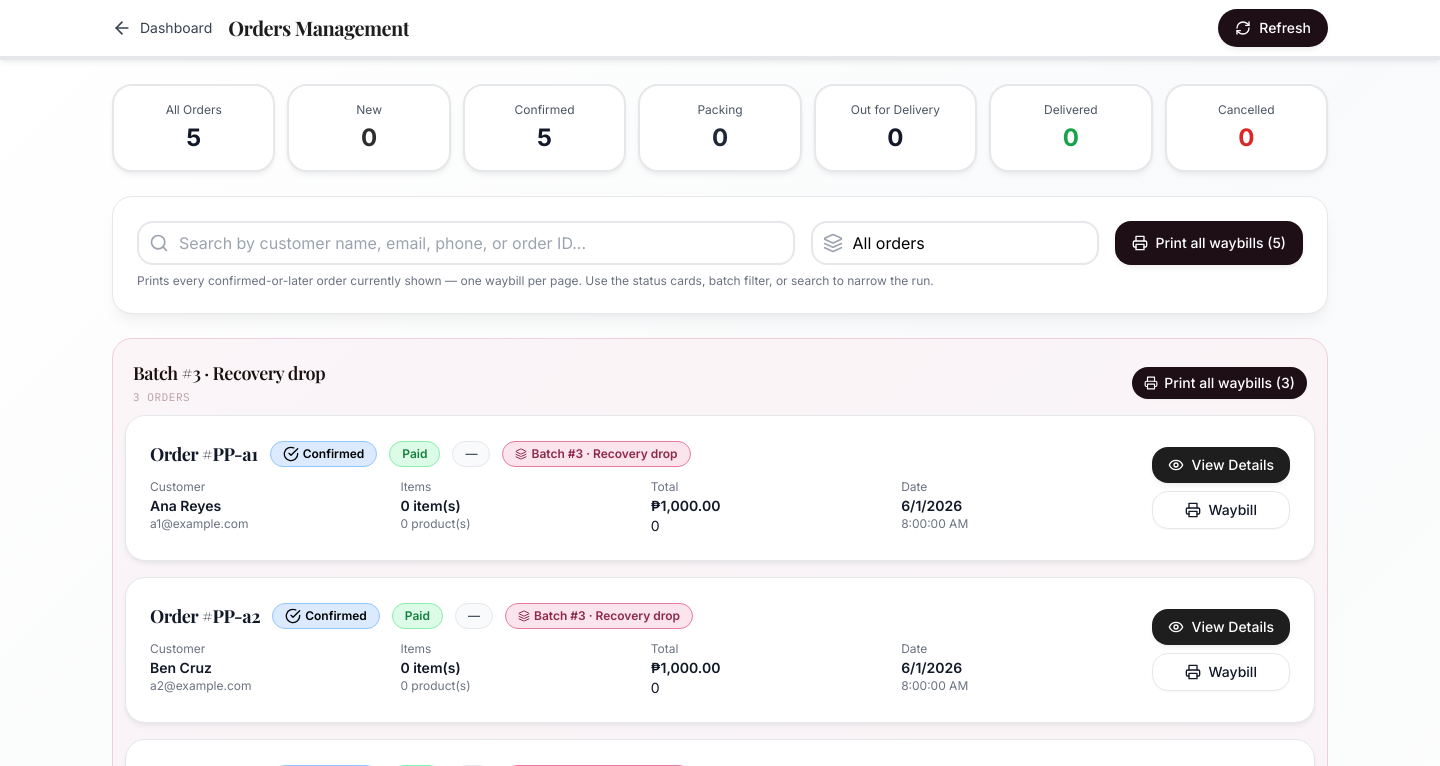
Test: Orders screen — per-batch waybill printing › narrows the sections to the batch filter
Select "Batch #2" in the dropdown at (955, 243), box [811,221,1099,265]
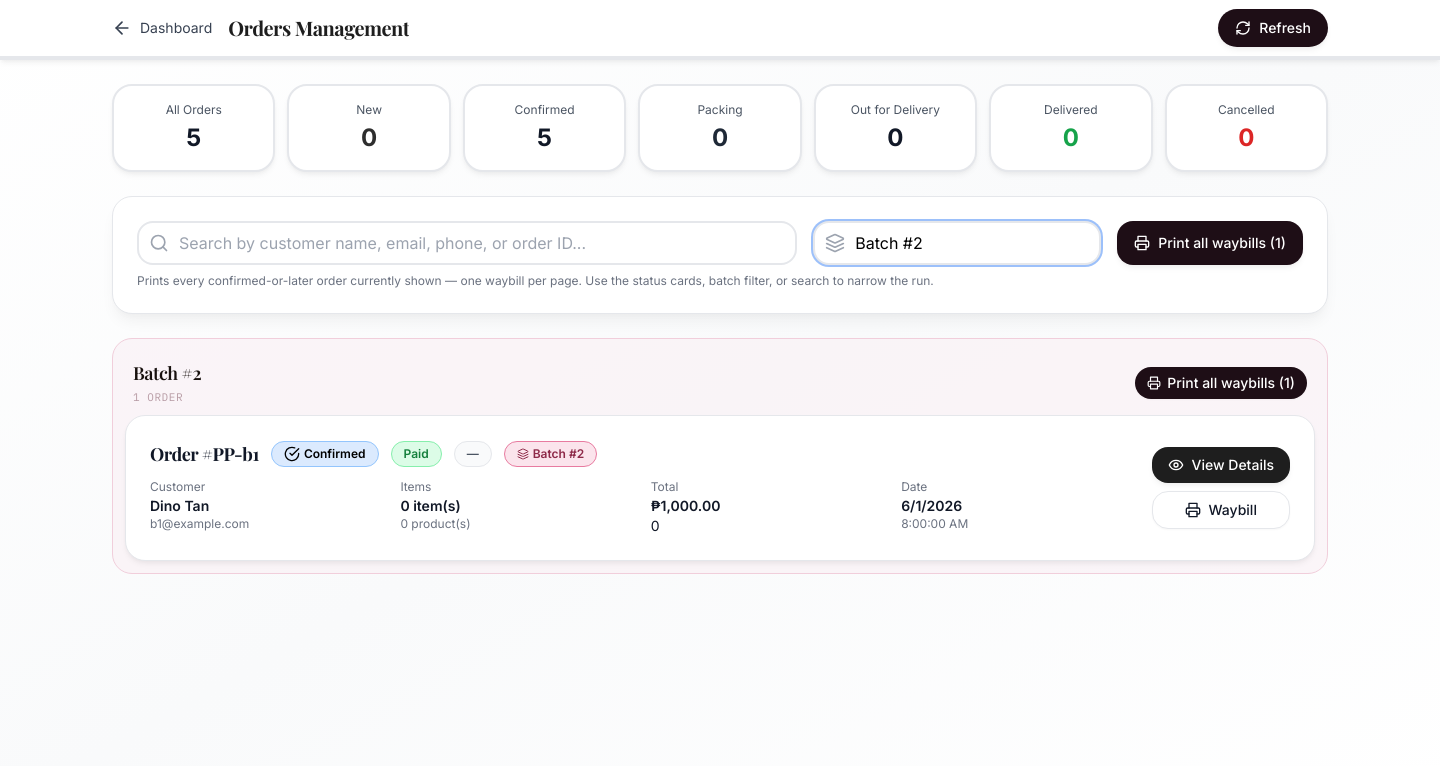
Expected: the element "Batch #2" is shown, [112,338,1328,574]
Result: the heading "Batch #3 · Recovery drop" is gone
